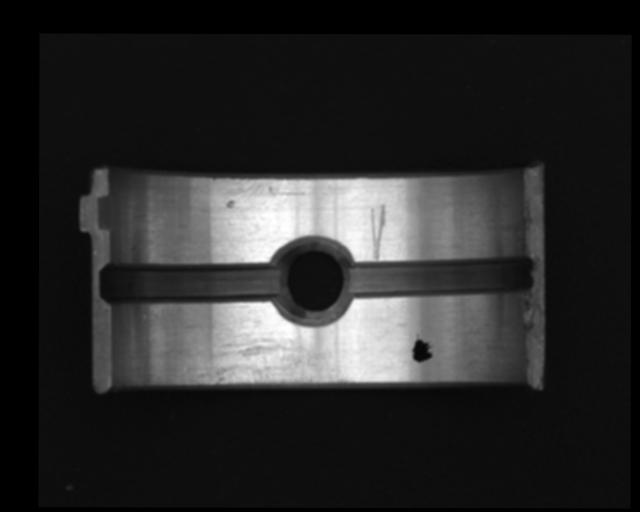blot: (410, 332, 434, 364)
bruise: (225, 199, 236, 208)
gap: (344, 251, 538, 300), (98, 259, 284, 304)
hole: (273, 239, 351, 324)
nick: (369, 203, 387, 261)
scratch: (181, 335, 356, 388)
